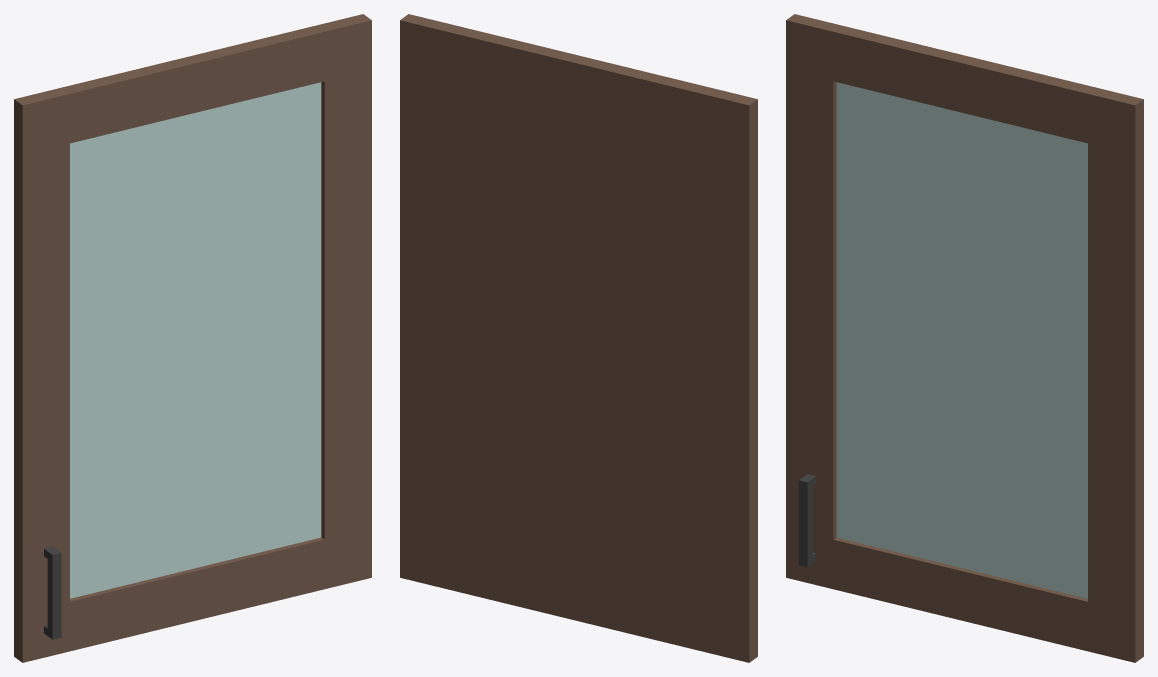
Rendered from BathroomDoor_C2_04.fbx.
The picture shows the model from 3 angles, left to right: view 1: azimuth 30°, elevation 25°; view 2: azimuth 150°, elevation 25°; view 3: azimuth 330°, elevation 25°; orthographic projection.
Parts seen in each view (by area): view 1: BathroomDoor_C2_04; view 2: BathroomDoor_C2_04; view 3: BathroomDoor_C2_04.
Boxes of the visible parts, <box> form: BathroomDoor_C2_04: <box>14,14,371,662</box>; BathroomDoor_C2_04: <box>400,14,757,662</box>; BathroomDoor_C2_04: <box>786,14,1143,662</box>.
Bounding box in the file's own units: 59 × 90 × 5.03.
